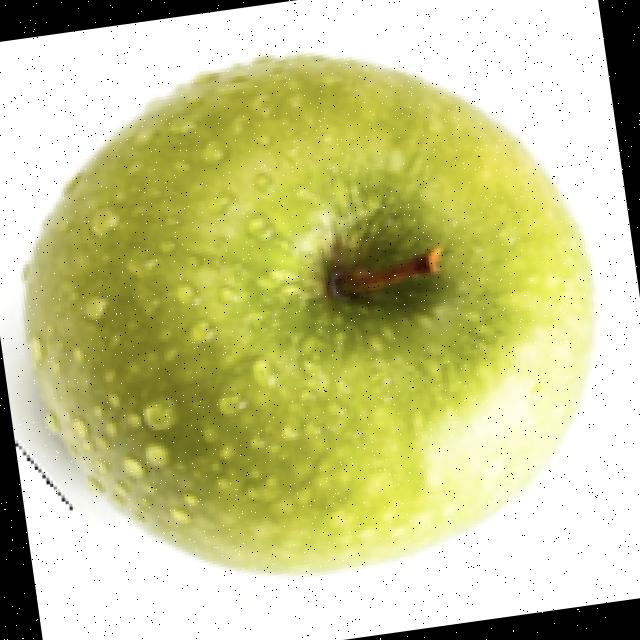apple: (3, 47, 601, 579)
